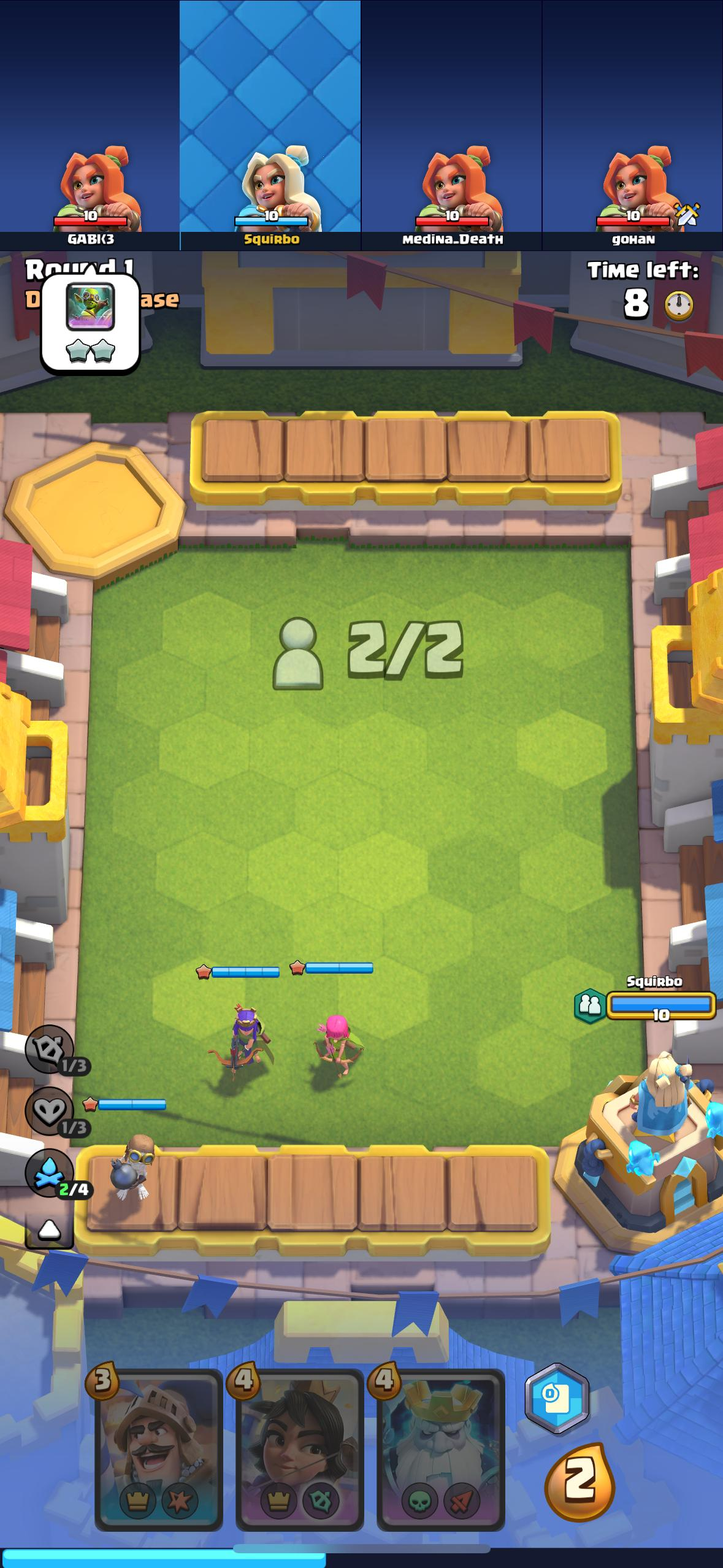archer: (313, 1013, 366, 1077)
bomber: (98, 1128, 160, 1204)
hand-ghost: (374, 1374, 501, 1527)
hand-prince: (95, 1373, 220, 1528)
hand-princess: (235, 1373, 361, 1525)
queen: (218, 1000, 272, 1074)
